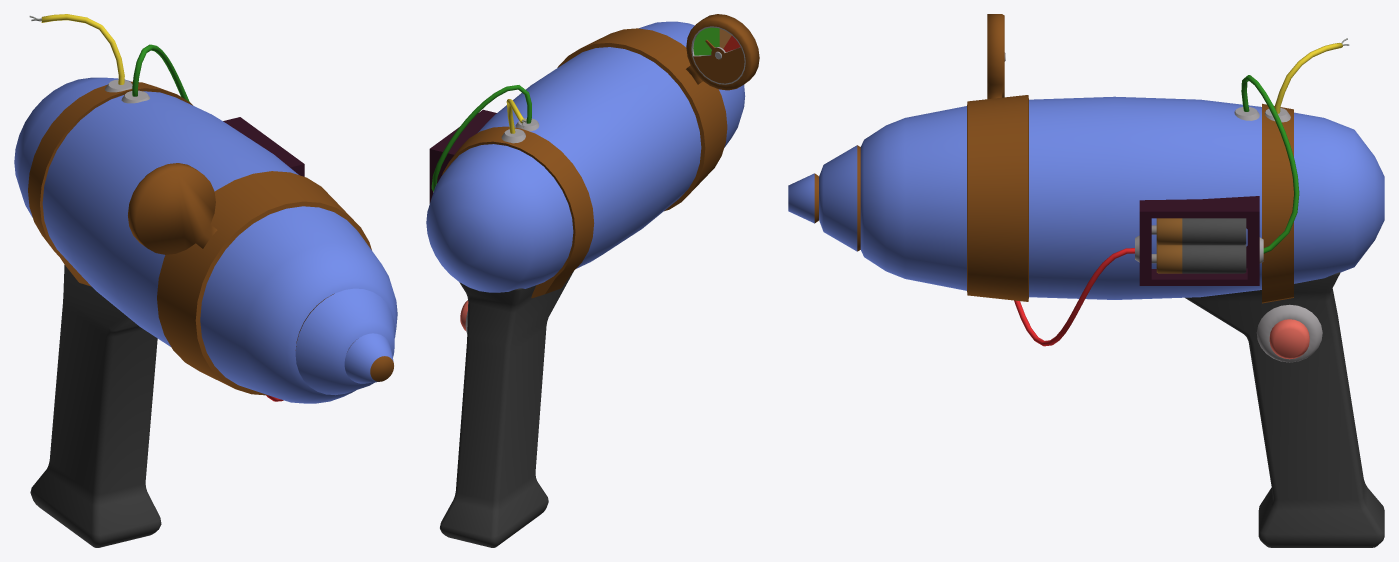
Rendered from rayGun.fbx.
The picture shows the model from 3 angles, left to right: view 1: azimuth 30°, elevation 25°; view 2: azimuth 150°, elevation 25°; view 3: azimuth 270°, elevation 25°; orthographic projection. The views are drawn at different scales.
Parts seen in each view (by area): view 1: Ray Gun; view 2: Ray Gun; view 3: Ray Gun, Batteries.
Boxes of the visible parts, x1,y1,x2,y2 form: Ray Gun: [14, 14, 397, 547]; Ray Gun: [426, 14, 759, 547]; Ray Gun: [788, 14, 1384, 547]; Batteries: [1151, 218, 1246, 273].
Size of the model in its own units: 15.34 by 33.24 by 29.38.
